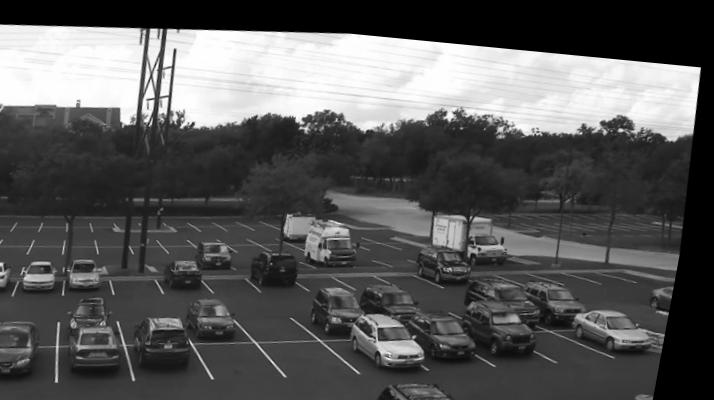empty: (283, 329, 374, 370), (544, 316, 621, 351), (207, 338, 285, 371), (121, 271, 177, 295), (264, 301, 313, 328), (345, 262, 399, 283), (17, 302, 68, 322), (135, 299, 178, 322), (216, 270, 267, 289), (391, 263, 448, 278), (436, 284, 478, 303), (310, 263, 355, 279), (359, 229, 405, 243), (573, 258, 629, 268), (507, 261, 554, 272), (36, 244, 75, 257), (4, 243, 41, 256), (241, 248, 270, 263), (132, 230, 168, 242), (240, 238, 279, 249), (139, 242, 181, 252), (164, 228, 199, 240), (103, 243, 144, 253), (10, 233, 44, 245), (73, 243, 106, 255), (98, 217, 126, 230), (172, 215, 205, 226), (74, 218, 103, 230), (227, 226, 261, 236), (42, 233, 75, 243), (194, 228, 227, 238), (49, 218, 76, 230), (105, 232, 137, 242), (256, 226, 291, 235), (202, 216, 233, 226), (73, 234, 107, 243), (162, 253, 185, 266), (172, 240, 205, 249), (545, 263, 594, 269), (253, 215, 284, 224), (272, 236, 310, 243), (1, 253, 30, 262), (25, 219, 48, 230), (0, 221, 22, 230), (229, 217, 257, 224), (0, 235, 13, 243)
occupied: (352, 302, 437, 363), (472, 289, 547, 345), (415, 299, 492, 353), (141, 311, 209, 365), (582, 296, 662, 337), (0, 319, 54, 375), (82, 318, 136, 368), (426, 235, 484, 279), (364, 276, 430, 314), (536, 270, 593, 313), (321, 280, 374, 326), (312, 213, 365, 259), (387, 373, 472, 400), (198, 294, 252, 335), (476, 267, 545, 296), (259, 246, 306, 288), (206, 235, 244, 266), (174, 255, 210, 286), (79, 257, 111, 286), (34, 260, 66, 289), (84, 295, 117, 322), (0, 260, 21, 291), (661, 272, 682, 298)
